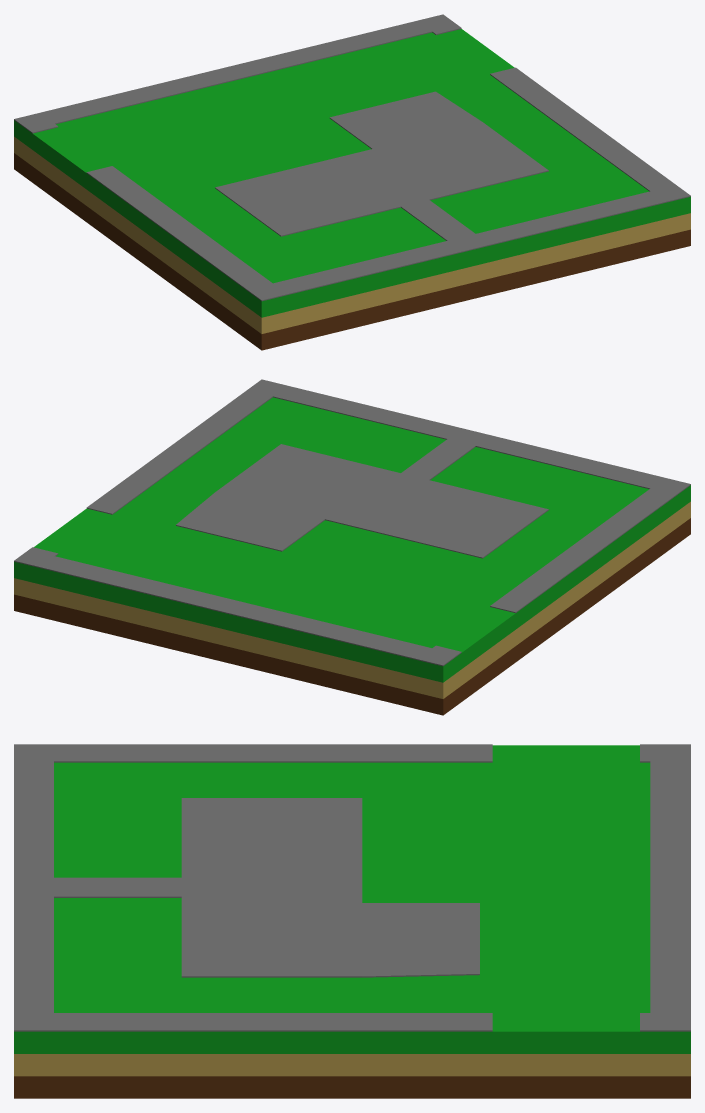
File: ChiaColisiones.glb
3 views of the same model, one above another, from view 1: azimuth 30°, elevation 25°; view 2: azimuth 150°, elevation 25°; view 3: azimuth 270°, elevation 25° (orthographic). The views are drawn at different scales.
Visible parts, largest first — view 1: Plane.016, Plane.017; view 2: Plane.016, Plane.017; view 3: Plane.016, Plane.017.
Boxes of the visible parts, left/top/right/bottom form: Plane.016: left=14, top=29, right=690, bottom=350; Plane.017: left=14, top=14, right=690, bottom=301; Plane.016: left=14, top=397, right=690, bottom=715; Plane.017: left=14, top=379, right=690, bottom=666; Plane.016: left=14, top=745, right=690, bottom=1098; Plane.017: left=14, top=744, right=690, bottom=1031.
Size of what is drawn, in the model's own units: 33.35 by 3.73 by 33.35.
